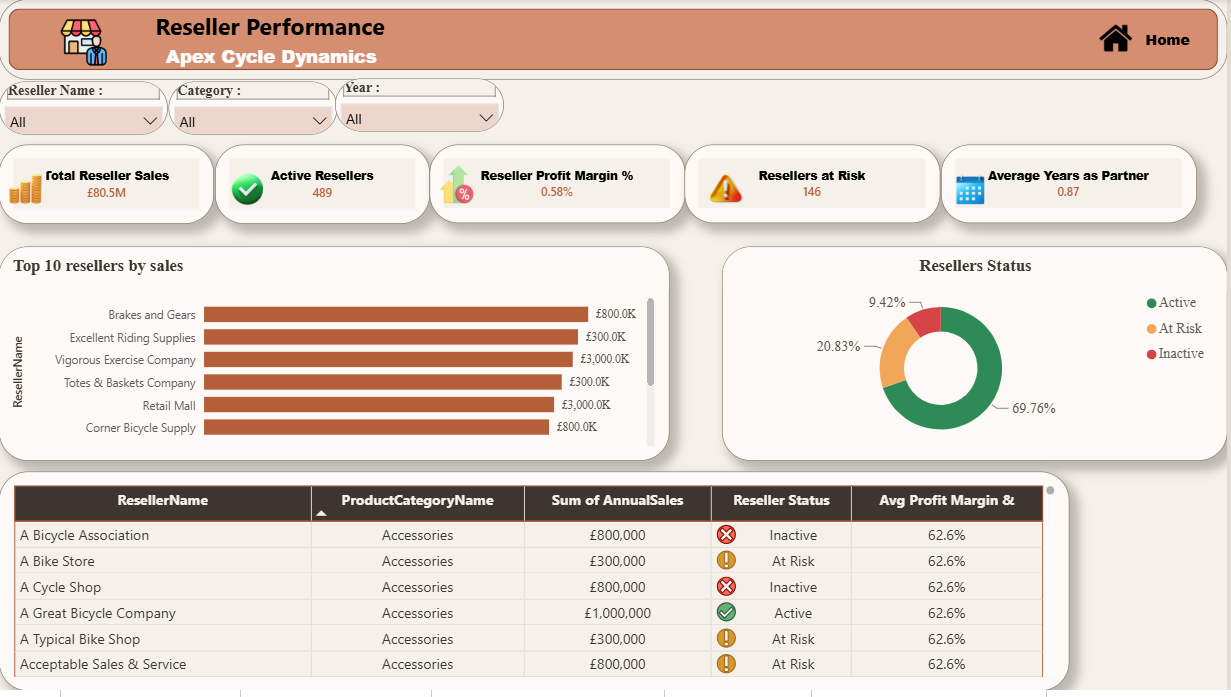

The dashboard page shown, as its layout file describes it:
{"tool":"powerbi","page":{"name":"Reseller Performance","canvas":[1280,720],"ordinal":3},"visuals":[{"type":"shape","box":[0,0,1280,84],"z":0},{"type":"textbox","box":[88,6,390,62],"z":1000},{"type":"textbox","title":"Apex Cycle Dynamics","box":[131.2,41.2,304.7,42.1],"z":2000},{"type":"image","box":[1126,22.9,76.8,34.5],"z":3000},{"type":"textbox","box":[1180.9,26,72.3,42.6],"z":4000},{"type":"image","box":[0,20,176.4,49.9],"z":5000},{"type":"slicer","fields":{"Values":["DimReseller.ResellerName"]},"box":[0,86.2,176.2,55],"z":6000},{"type":"slicer","fields":{"Values":["DimProductCategory.ProductCategoryName"]},"box":[176.7,86.7,176.2,55],"z":7000},{"type":"cardVisual","title":"Total sales","fields":{"Data":["FactResellerSales.Total Reseller Sales"]},"box":[0,151.2,224.3,82.9],"z":8000},{"type":"cardVisual","title":"Total sales","fields":{"Data":["_Measures.Active Resellers"]},"box":[225,151.7,224.3,82.9],"z":9000},{"type":"cardVisual","title":"Avg Profit Margin &","fields":{"Data":["_Measures.Reseller Profit Margin %"]},"box":[448.3,151.7,266.7,81.7],"z":10000},{"type":"image","box":[452.5,173.8,48.2,39.1],"z":11000},{"type":"clusteredBarChart","title":"Top 10 resellers by sales","fields":{"Category":["DimReseller.ResellerName"],"Y":["FactResellerSales.Total Reseller Sales"]},"box":[0,258.3,698.3,223.3],"z":12000},{"type":"donutChart","title":"Resellers Status","fields":{"Y":["CountNonNull(DimReseller.ResellerName)"],"Category":["DimReseller.Reseller Status"]},"box":[753.3,258.3,526.7,223.3],"z":13000},{"type":"tableEx","fields":{"Values":["DimReseller.ResellerName","DimProductCategory.ProductCategoryName","Sum(DimReseller.AnnualSales)","DimReseller.Reseller Status","_Measures.Avg Profit Margin &"]},"box":[0,491.7,1115,228.3],"z":14000},{"type":"cardVisual","title":"Avg Profit Margin &","fields":{"Data":["DimReseller.Resellers at Risk"]},"box":[715,151.7,266.7,81.7],"z":15000},{"type":"cardVisual","title":"Avg Profit Margin &","fields":{"Data":["DimReseller.Average Years as Partner"]},"box":[981.7,151.7,266.7,81.7],"z":16000},{"type":"image","box":[3.7,177.8,48.6,39.1],"z":17000},{"type":"image","box":[233.7,177.8,49.4,39.1],"z":18000},{"type":"image","box":[730.7,177.9,51.9,39.4],"z":19000},{"type":"image","box":[976.7,179.2,70.4,38.4],"z":20000},{"type":"slicer","fields":{"Values":["DimDate.CalendarYear"]},"box":[350,83.3,176.2,55],"z":21000}]}

Visuals, with their boxes in screenshot pixels (x1, y1, x2, y2), scaled from the page's 1280x720 canvas onto the 1231x697 screenshot:
shape: <bbox>0, 0, 1230, 81</bbox>
textbox: <bbox>85, 6, 460, 66</bbox>
"Apex Cycle Dynamics" textbox: <bbox>126, 40, 419, 81</bbox>
image: <bbox>1083, 22, 1157, 56</bbox>
textbox: <bbox>1136, 25, 1205, 66</bbox>
image: <bbox>0, 19, 170, 68</bbox>
slicer - DimReseller.ResellerName: <bbox>0, 83, 169, 137</bbox>
slicer - DimProductCategory.ProductCategoryName: <bbox>170, 84, 339, 137</bbox>
"Total sales" cardVisual: <bbox>0, 146, 216, 227</bbox>
"Total sales" cardVisual: <bbox>216, 147, 432, 227</bbox>
"Avg Profit Margin &" cardVisual: <bbox>431, 147, 688, 226</bbox>
image: <bbox>435, 168, 482, 206</bbox>
"Top 10 resellers by sales" clusteredBarChart: <bbox>0, 250, 672, 466</bbox>
"Resellers Status" donutChart: <bbox>724, 250, 1230, 466</bbox>
tableEx - DimReseller.ResellerName x DimProductCategory.ProductCategoryName: <bbox>0, 476, 1072, 696</bbox>
"Avg Profit Margin &" cardVisual: <bbox>688, 147, 944, 226</bbox>
"Avg Profit Margin &" cardVisual: <bbox>944, 147, 1201, 226</bbox>
image: <bbox>4, 172, 50, 210</bbox>
image: <bbox>225, 172, 272, 210</bbox>
image: <bbox>703, 172, 753, 210</bbox>
image: <bbox>939, 173, 1007, 211</bbox>
slicer - DimDate.CalendarYear: <bbox>337, 81, 506, 134</bbox>
